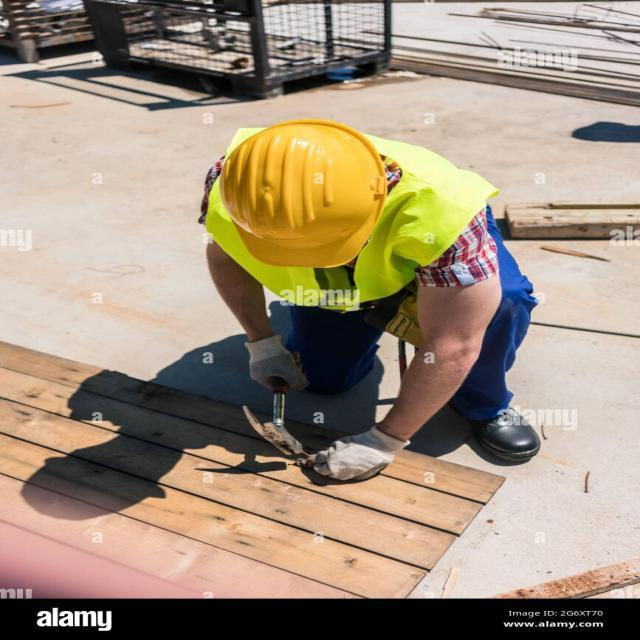helmet: (223, 133, 378, 261)
